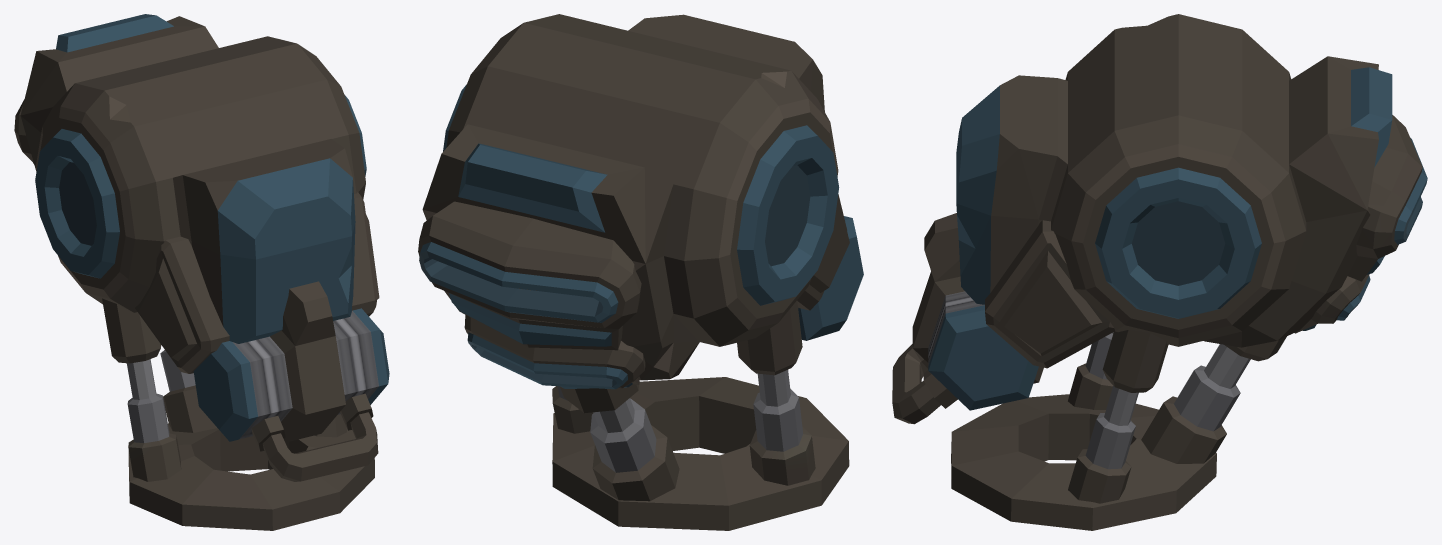
Rendered from SM_Mech_Leg_01_Armor_Shinpad_03.fbx.
3 renders of one model, left to right at view 1: azimuth 30°, elevation 25°; view 2: azimuth 150°, elevation 25°; view 3: azimuth 270°, elevation 25°, orthographic. The views are drawn at different scales.
Visible parts, largest first — view 1: SM_Mech_Leg_01_Armor_Shinpad_03; view 2: SM_Mech_Leg_01_Armor_Shinpad_03; view 3: SM_Mech_Leg_01_Armor_Shinpad_03.
Boxes of the visible parts, x1=… form: SM_Mech_Leg_01_Armor_Shinpad_03: x1=14, y1=14, x2=389, y2=530; SM_Mech_Leg_01_Armor_Shinpad_03: x1=418, y1=14, x2=863, y2=530; SM_Mech_Leg_01_Armor_Shinpad_03: x1=892, y1=14, x2=1427, y2=530.
Size of the model in its own units: 45.13 by 64.65 by 74.59.
